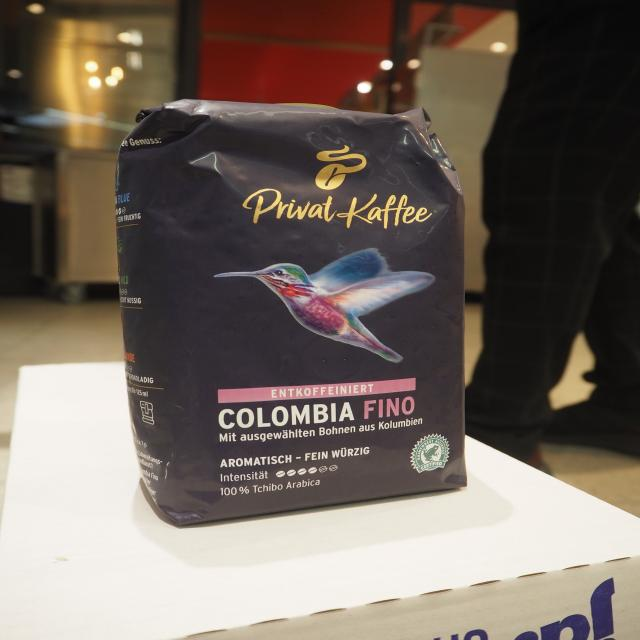C Fino Bohne: (109, 85, 485, 541)
